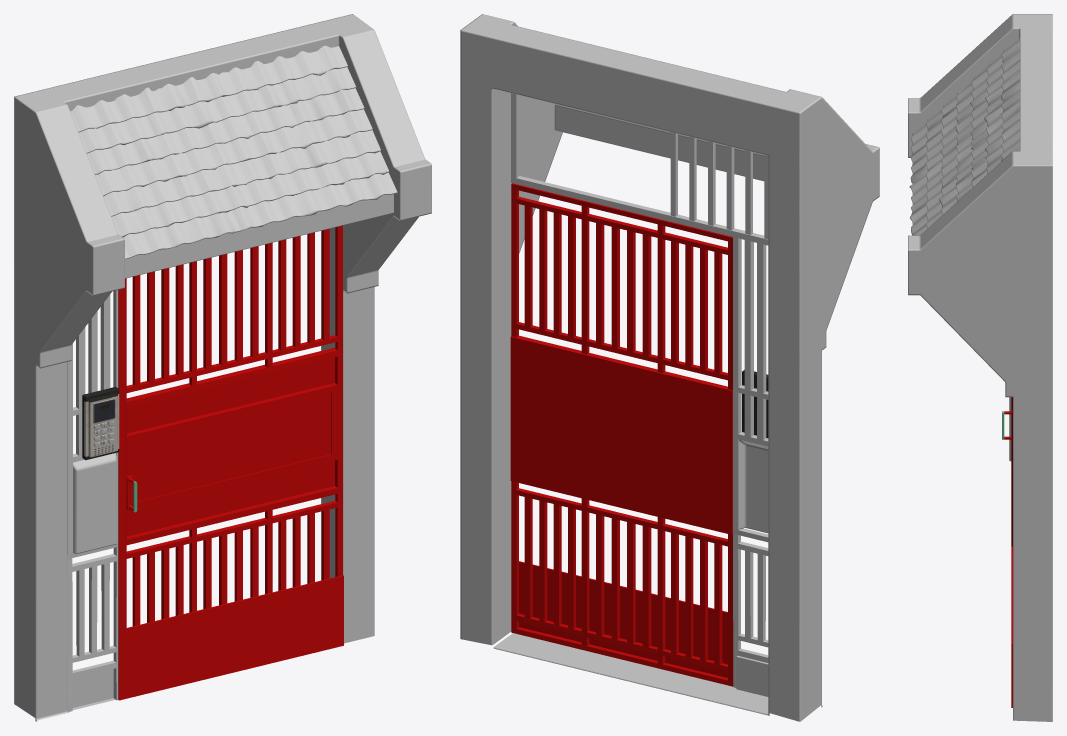
Rendered from GreenDoor.fbx.
The picture shows the model from 3 angles, left to right: view 1: azimuth 30°, elevation 25°; view 2: azimuth 150°, elevation 25°; view 3: azimuth 270°, elevation 25°; orthographic projection. The views are drawn at different scales.
Visible parts, largest first — view 1: door, wall, roof, fense, roof_wall, body_low; view 2: wall, door, fense, roof_wall; view 3: wall, roof, door.
Boxes of the visible parts, box(x1,y1,x2,y2) form: door: box(118, 225, 343, 700); wall: box(14, 14, 431, 721); roof: box(70, 45, 397, 259); fense: box(67, 290, 118, 711); roof_wall: box(125, 194, 393, 278); body_low: box(82, 387, 119, 460); wall: box(460, 14, 879, 721); door: box(510, 183, 733, 686); fense: box(511, 93, 768, 696); roof_wall: box(554, 103, 764, 181); wall: box(908, 14, 1052, 721); roof: box(909, 38, 1019, 235); door: box(1002, 397, 1012, 707).
Size of the model in its own units: 154 by 265 by 62.39.
